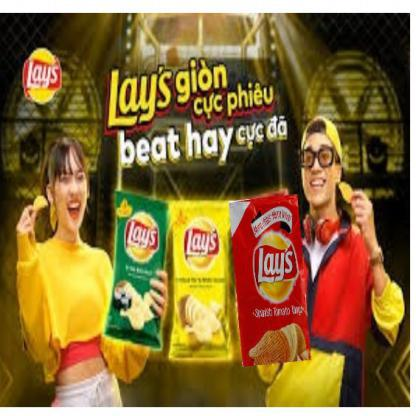classicsalted: (168, 196, 239, 364)
cream_and_onion: (103, 193, 169, 349)
tangy_tomato: (229, 195, 313, 366)
